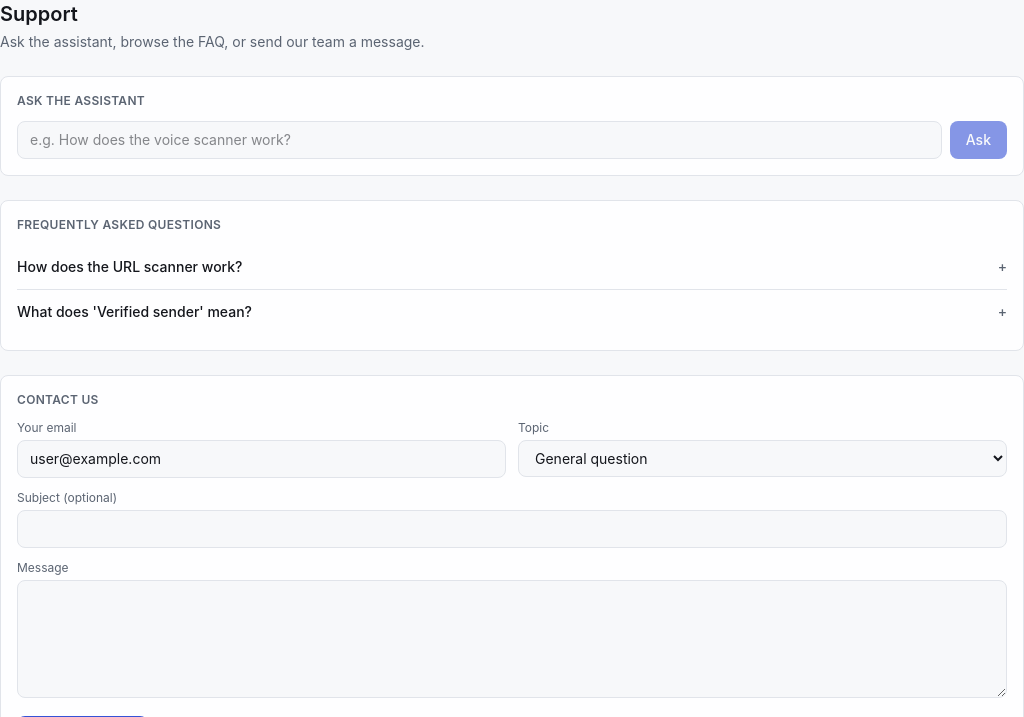
Scenario: a scanned link answer shows the verdict chip (C1)
The width and height of the screenshot is (1024, 717).
Type "is https://evil.tk/login a scam?" into the field named "ask the assistant".
click(479, 140); type("is https://evil.tk/login a scam?")  # box [17,121,942,159]
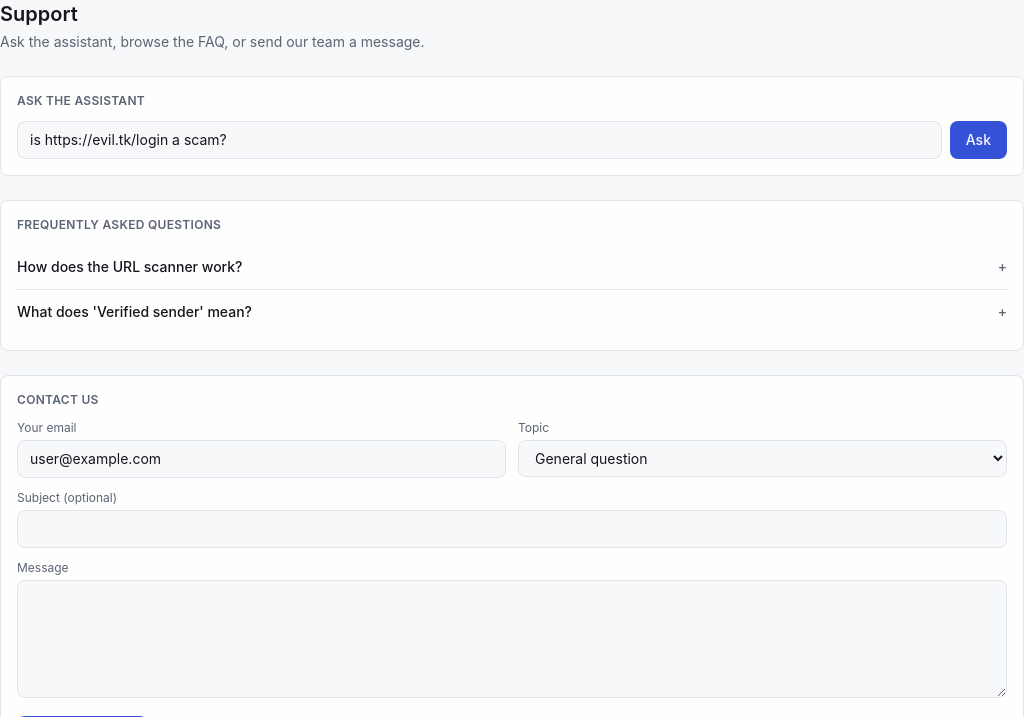
Click the button "Ask".
click(978, 140)  # box [950,121,1007,159]
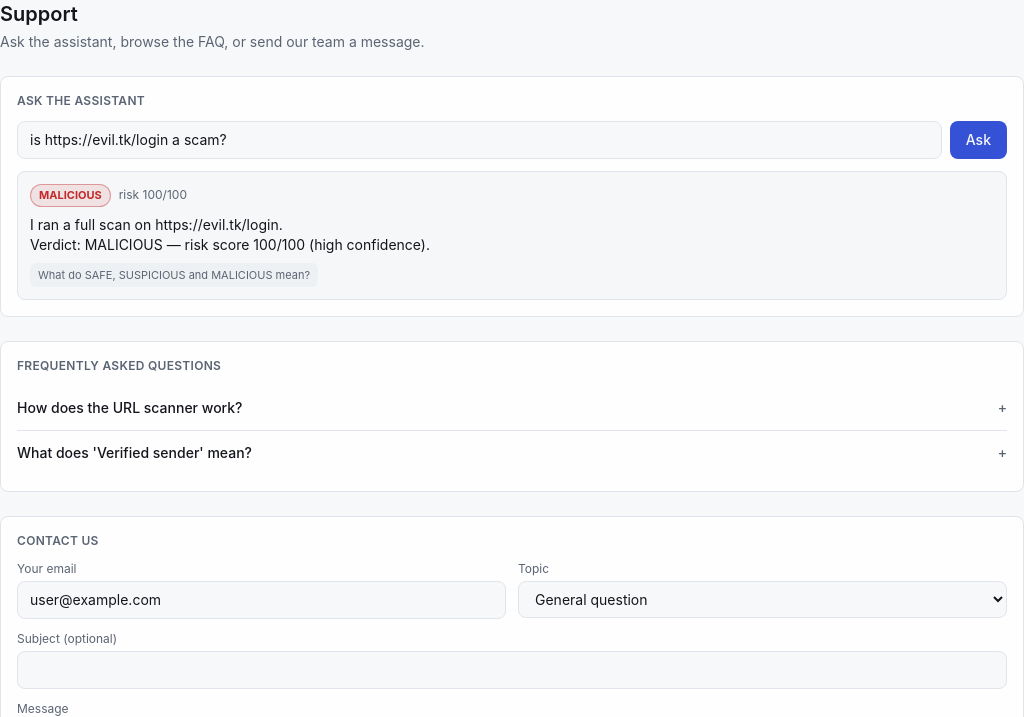
Expected: the text "MALICIOUS" is shown, [30,184,111,206]
Expected: the text "risk 100/100" is shown, [119,187,187,203]
Expected: the text "I ran a full scan" is shown, [30,216,430,252]
